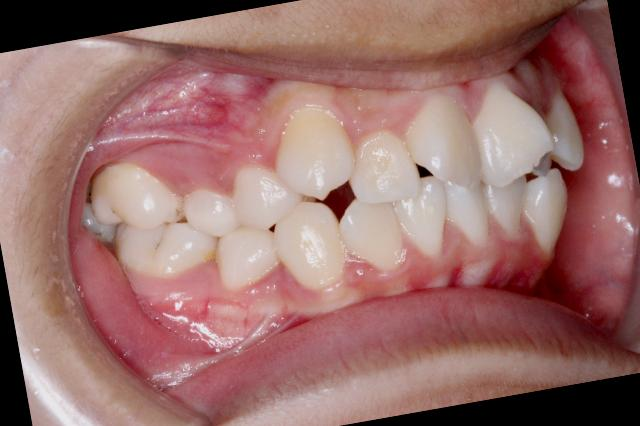canine class III 1/4: (252, 92, 410, 300)
molar class III 1/2: (78, 145, 224, 294)
